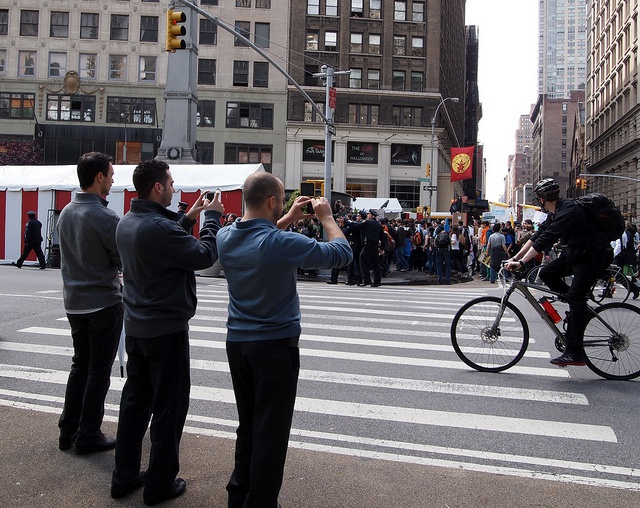non-vehicle: (449, 260, 638, 381), (525, 263, 630, 304)
